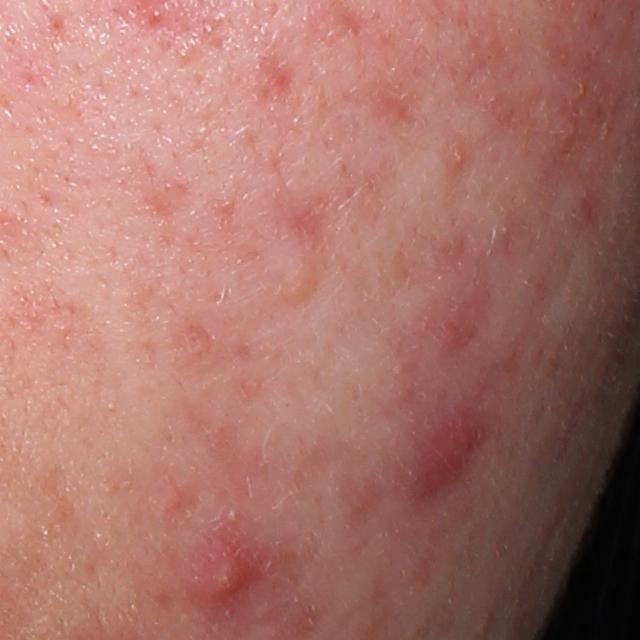papule: (421, 412, 480, 495), (277, 258, 322, 306)
